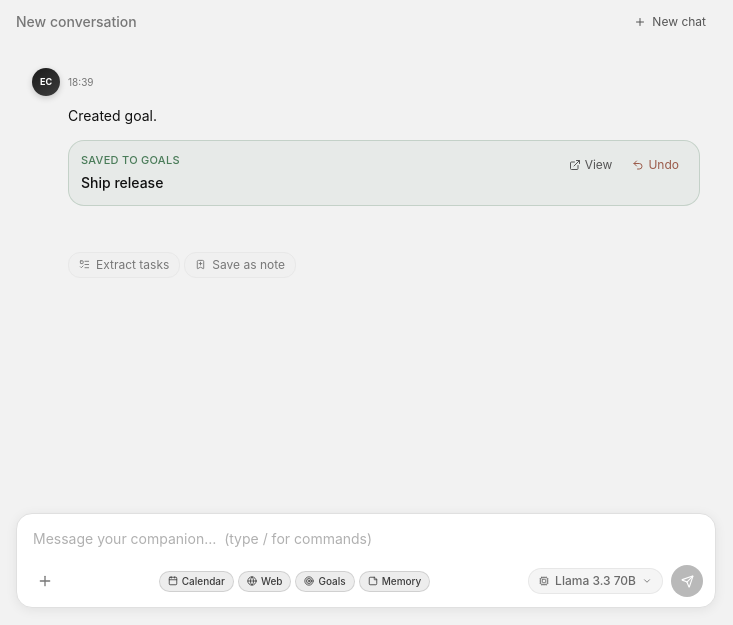
undo deletes the newly saved item and updates the card
What coordinates should you click on to do the following:
click the button "Undo"
I would click on:
 (656, 165)
Its box is [624,153,687,177].
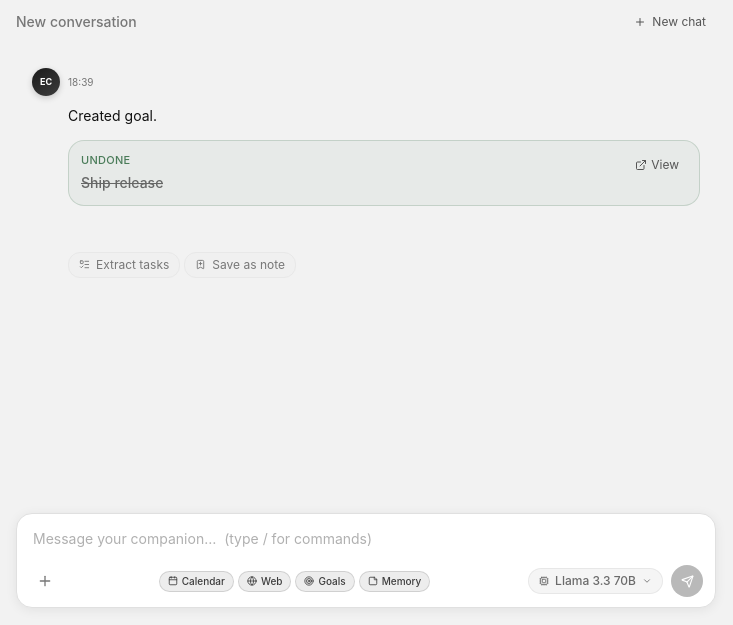
expect the text "Undone" is shown: met, box [81,153,130,167]
